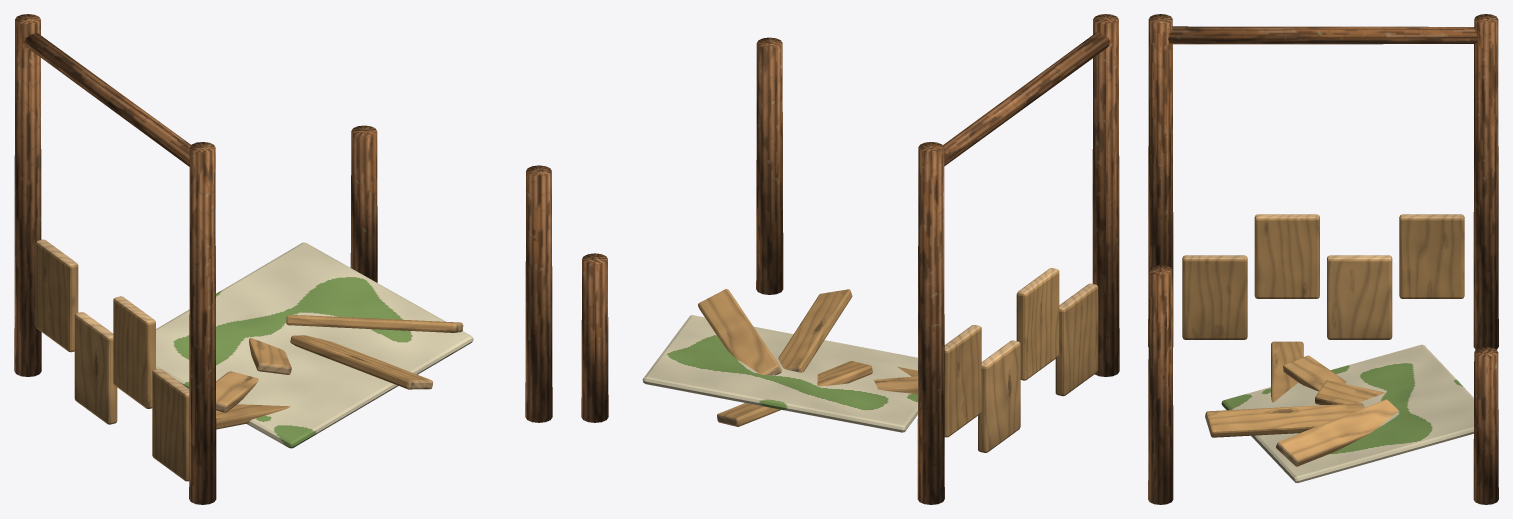
File: treehouse_ruin.glb
The picture shows the model from 3 angles, left to right: view 1: azimuth 30°, elevation 25°; view 2: azimuth 150°, elevation 25°; view 3: azimuth 270°, elevation 25°; orthographic projection. The views are drawn at different scales.
Parts seen in each view (by area): view 1: TreehouseRuin; view 2: TreehouseRuin; view 3: TreehouseRuin.
Part boxes in pixels (x1,y1,x2,y2): TreehouseRuin: (14, 14, 552, 504); TreehouseRuin: (581, 14, 1119, 504); TreehouseRuin: (1148, 14, 1498, 504).
Bounding box in the file's own units: 2.14 × 2.02 × 1.94.
1 material, 1 textured.
